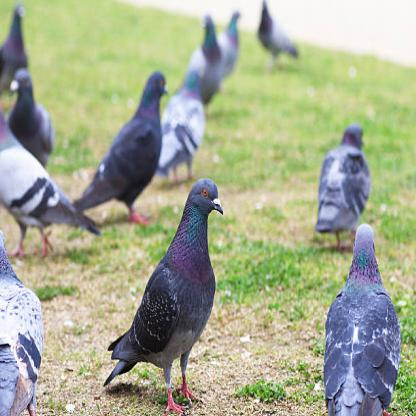Flying Rat: (100, 178, 223, 416), (1, 114, 95, 265), (327, 226, 399, 416), (89, 68, 167, 226), (313, 115, 375, 235), (1, 230, 39, 416), (159, 70, 202, 196), (255, 1, 311, 71), (8, 73, 53, 151), (186, 18, 221, 109), (1, 4, 31, 80)
